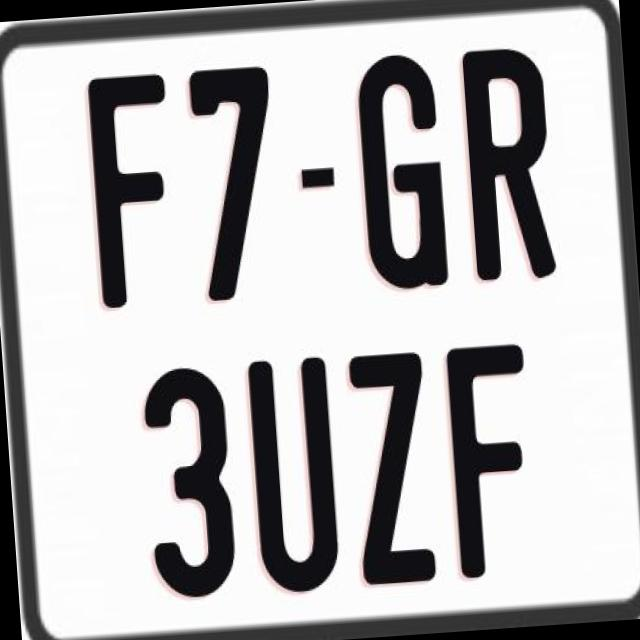3: (138, 360, 236, 604)
7: (185, 61, 286, 296)
F: (444, 342, 540, 582), (84, 70, 181, 306)
G: (351, 51, 450, 296)
R: (457, 43, 555, 287)
U: (244, 357, 338, 597)
Z: (344, 352, 436, 590)
